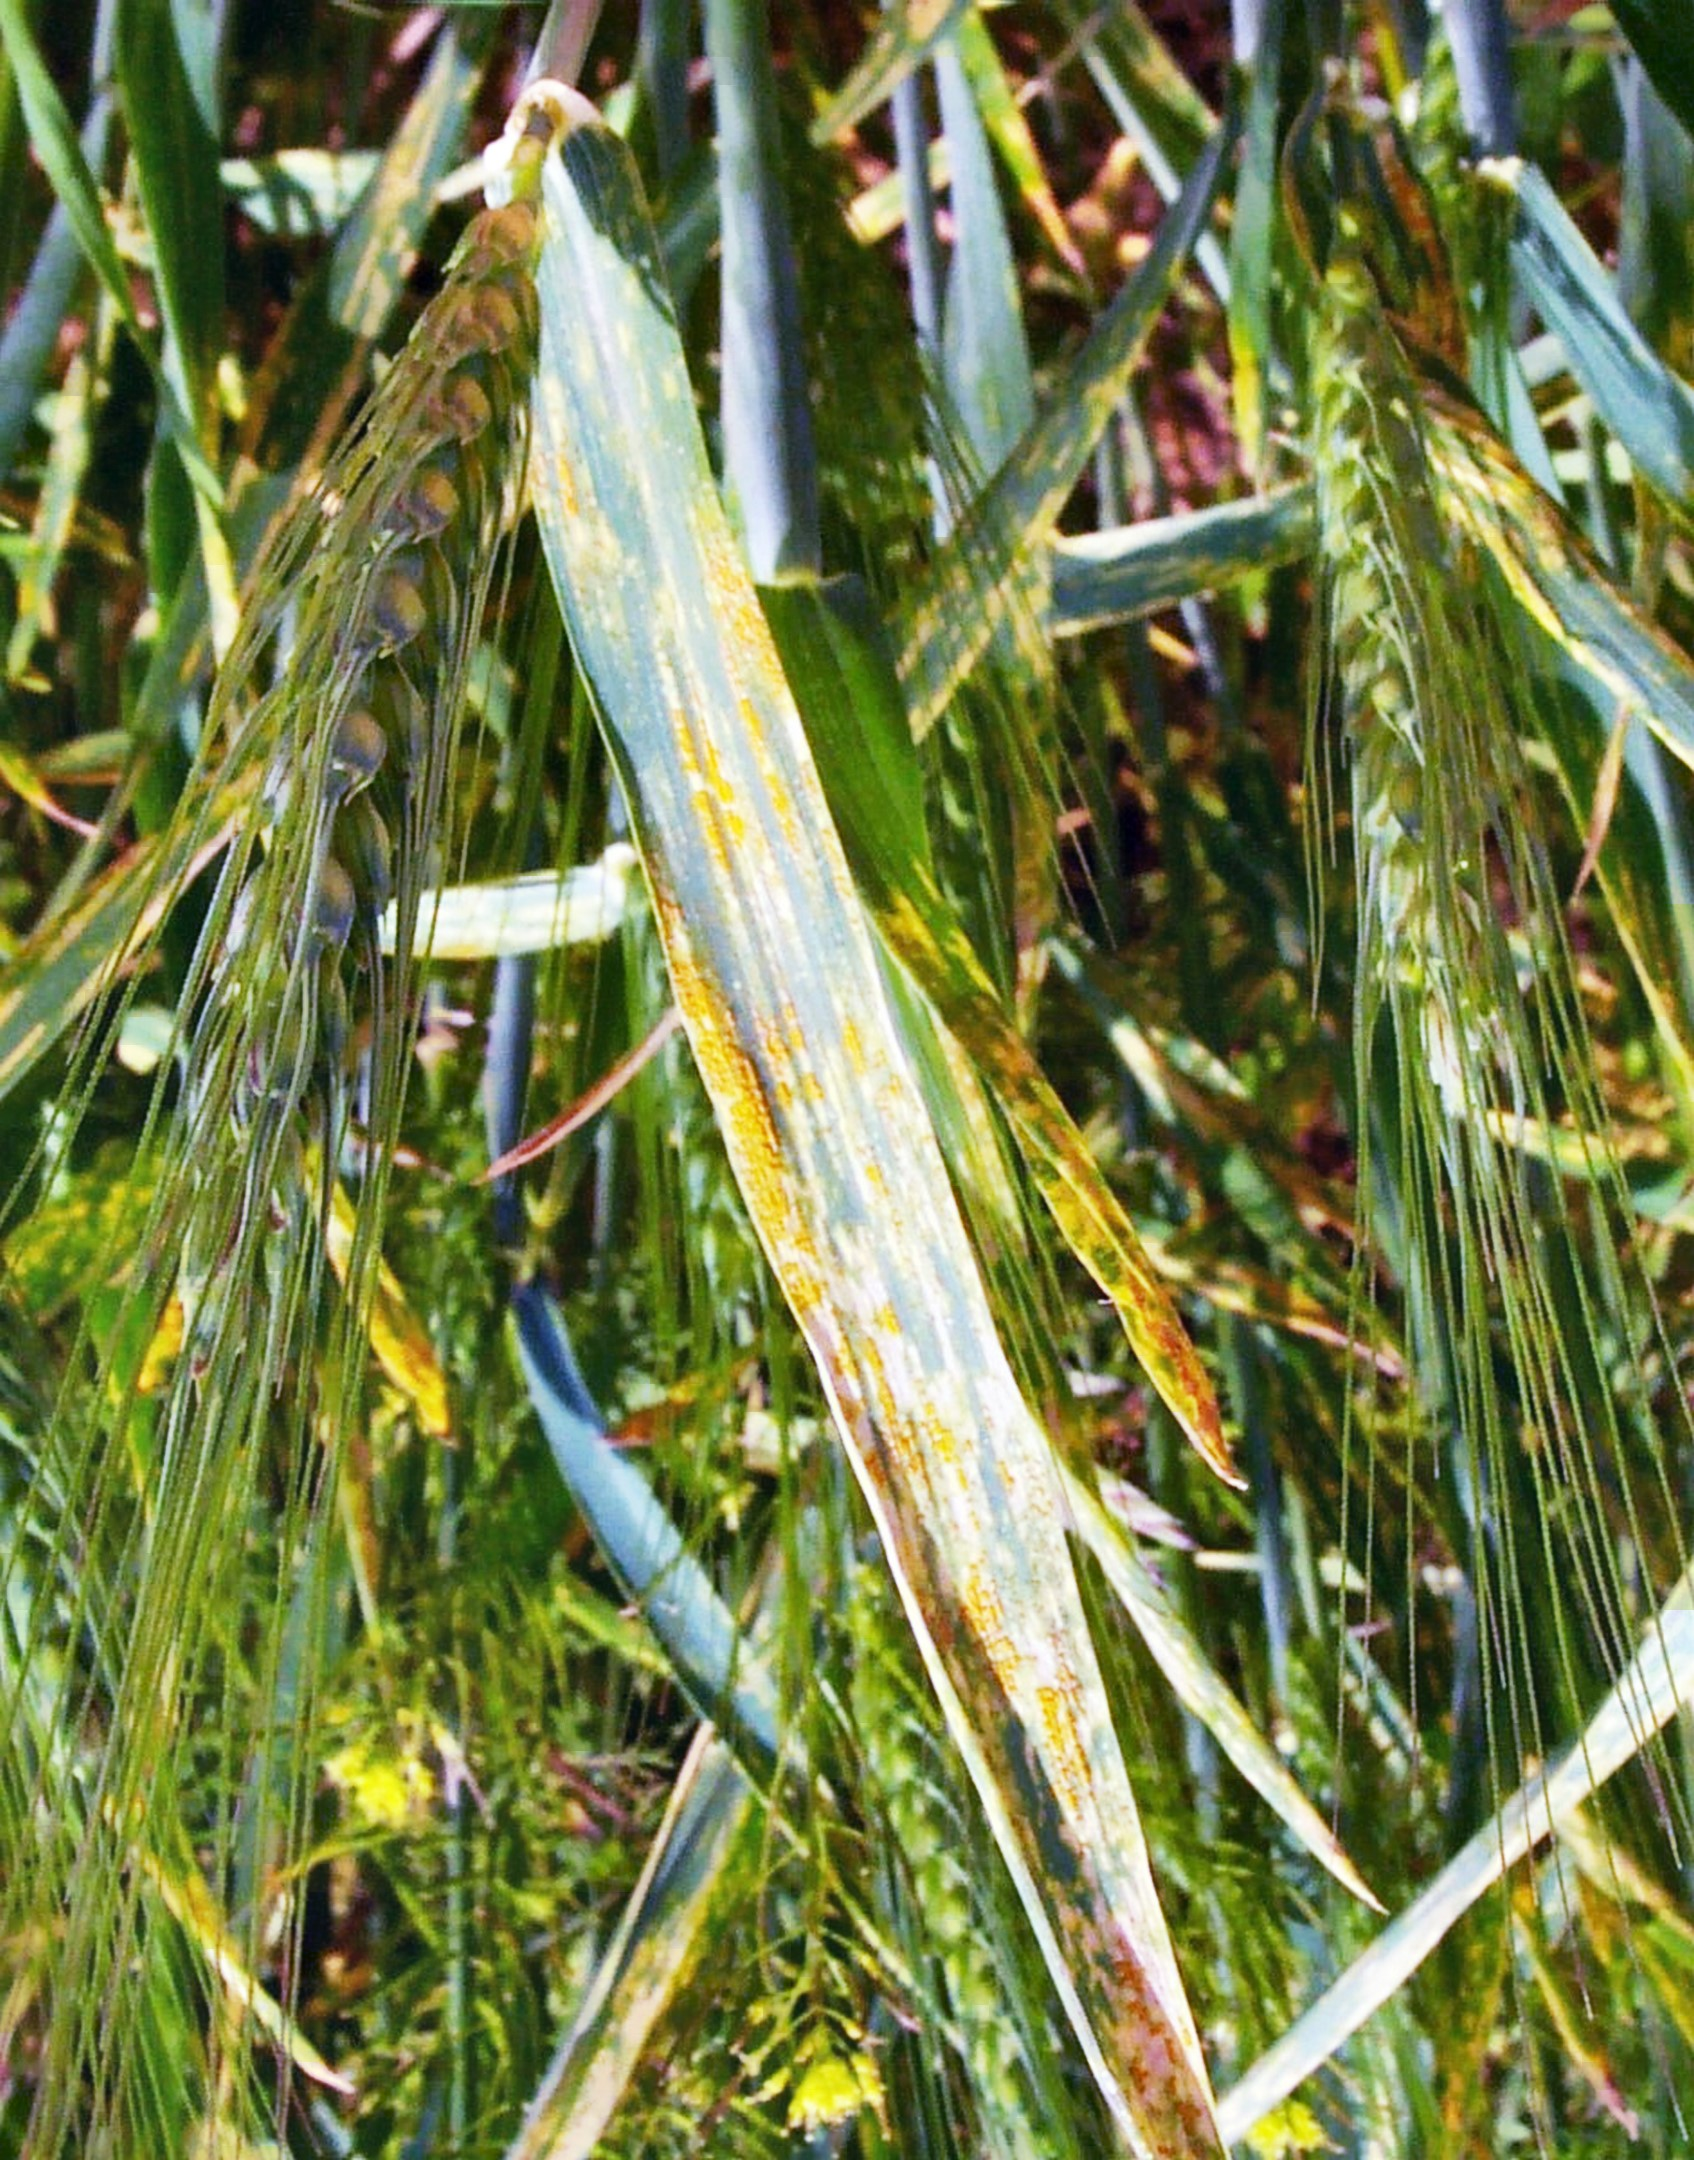Leaf Rust: (589, 696, 1073, 1711)
